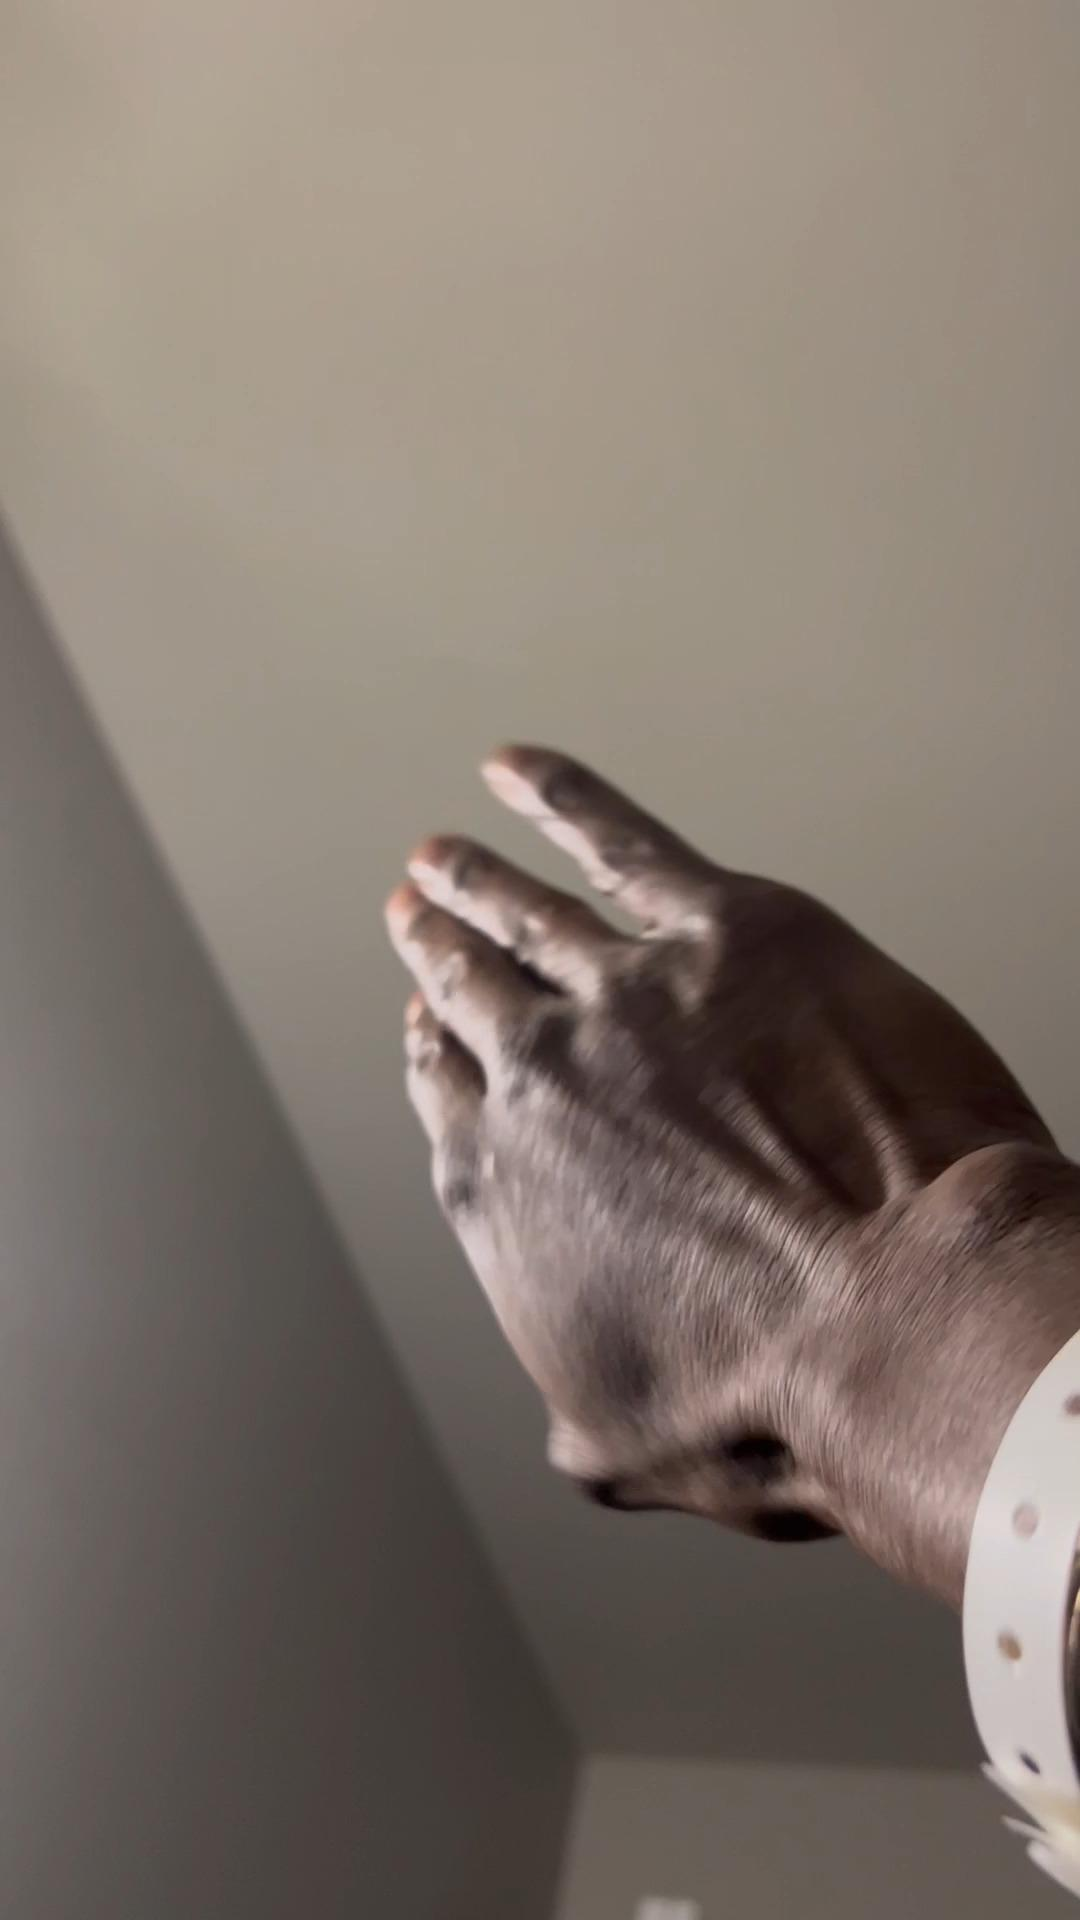Paper: (393, 744, 1054, 1548)
